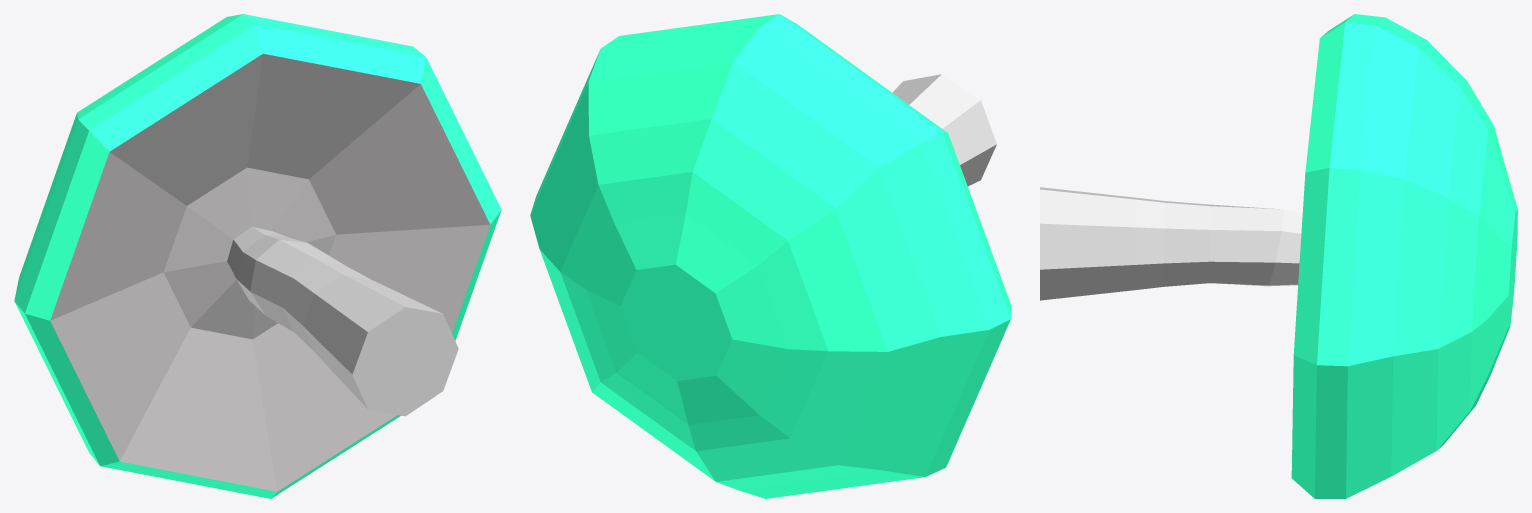
File: Mushroom_2.fbx
3 views of the same model, side by side, from view 1: azimuth 30°, elevation 25°; view 2: azimuth 150°, elevation 25°; view 3: azimuth 270°, elevation 25° (orthographic). The views are drawn at different scales.
Parts seen in each view (by area): view 1: Mushroom_2; view 2: Mushroom_2; view 3: Mushroom_2.
Part boxes in pixels (box(x1,y1,x2,y2)): Mushroom_2: box(14, 14, 501, 498); Mushroom_2: box(530, 14, 1011, 498); Mushroom_2: box(1040, 14, 1517, 498).
Bounding box in the file's own units: 88.37 × 85.8 × 79.8.
